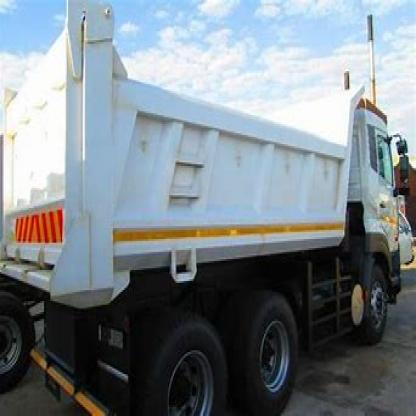dump_truck: (6, 6, 415, 414)
